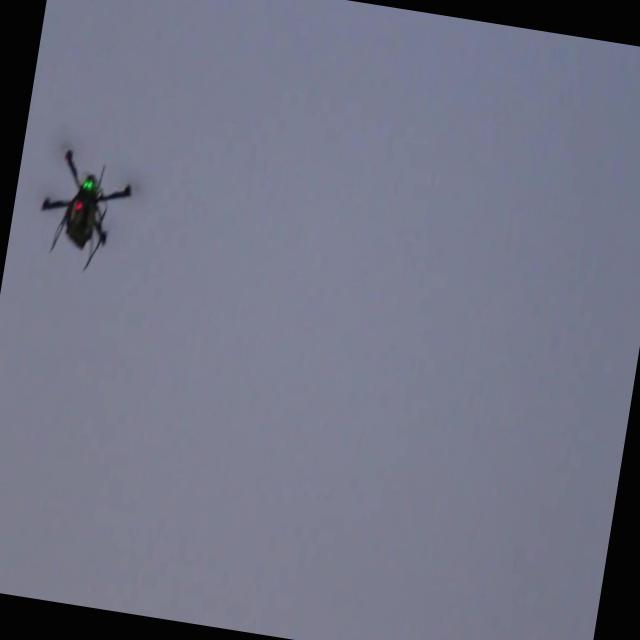drone: (29, 144, 140, 282)
